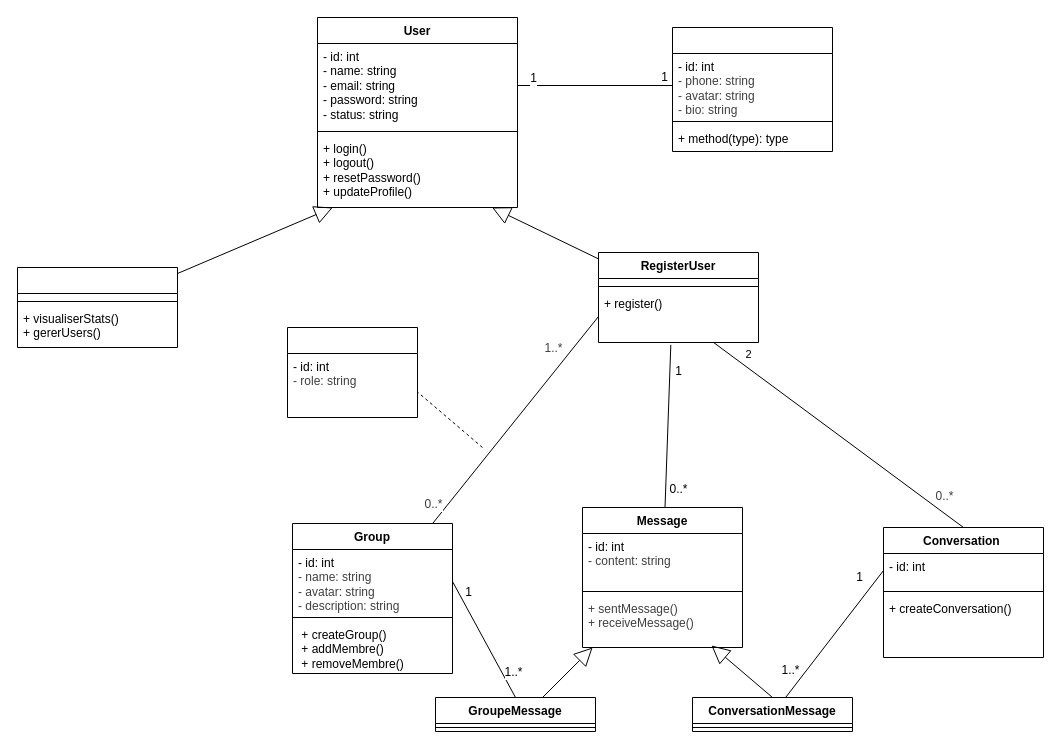
The diagram is 1061 pixels wide and 749 high, and some of its shapes have lost their labels. The box of each missing label's shape, as (x1, y1, x2, y2) in pixels:
Admin: (16, 266, 178, 348)
Group_User: (286, 326, 418, 418)
Profile: (672, 26, 832, 152)
